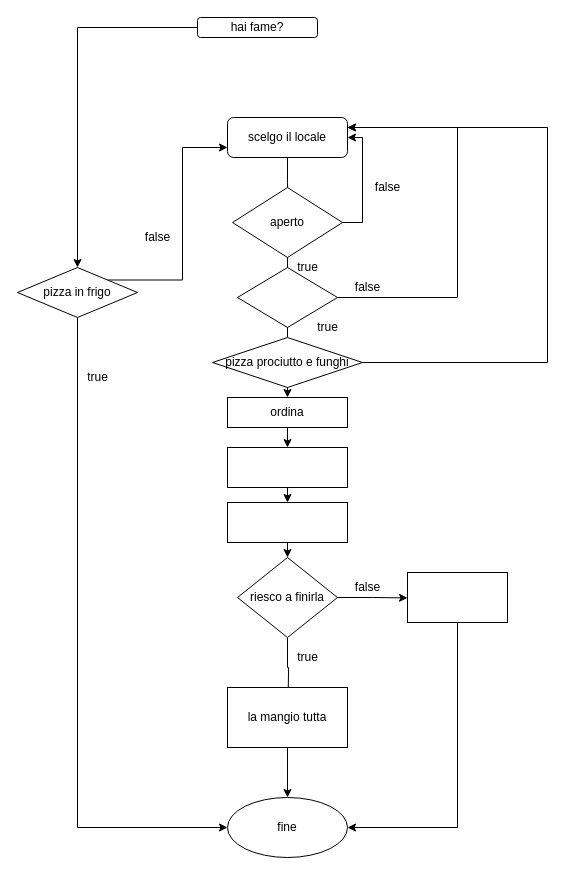
Some shapes in this 573 by 875 pixel diagram are drawn without their labels. The centre of each missing label's shape, as x and y in pixels:
consegna a domicilio: point (287, 297)
mangia: point (287, 522)
pago e ritiro: point (287, 467)
riponi avanzi in frigo: point (457, 597)
